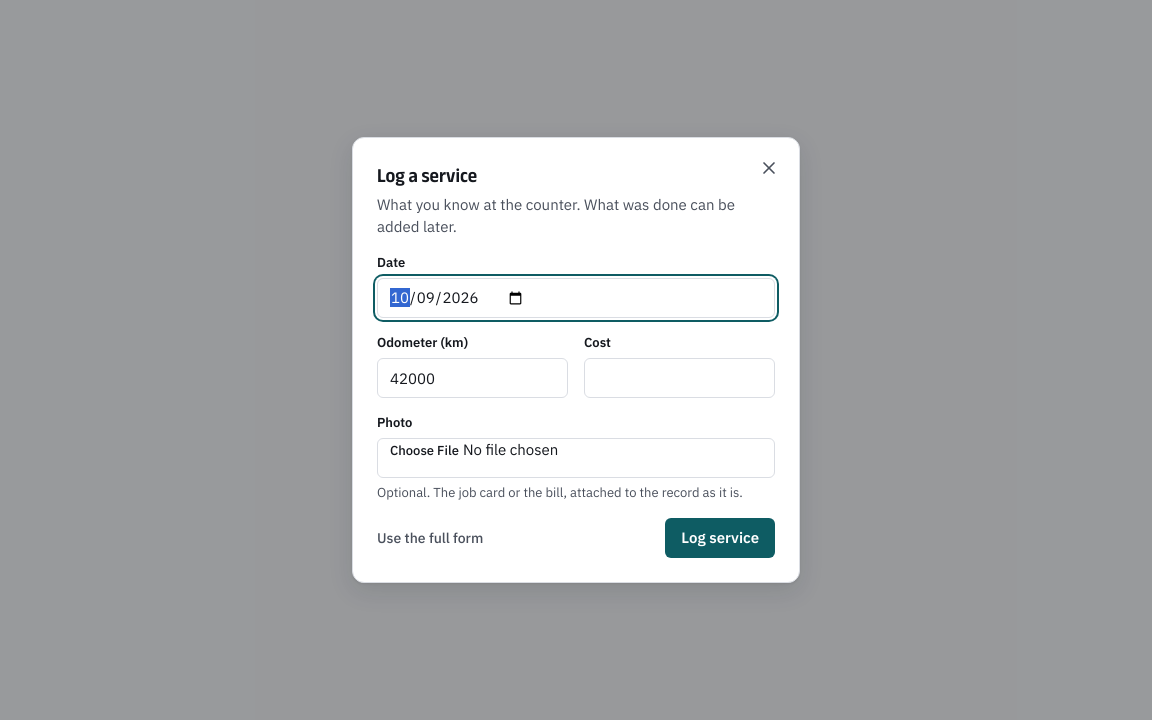
QuickLogDialog › will not save without a cost, or with a negative one
The image size is (1152, 720).
Click the button "Log service" at (720, 538), box [665,518,775,558]
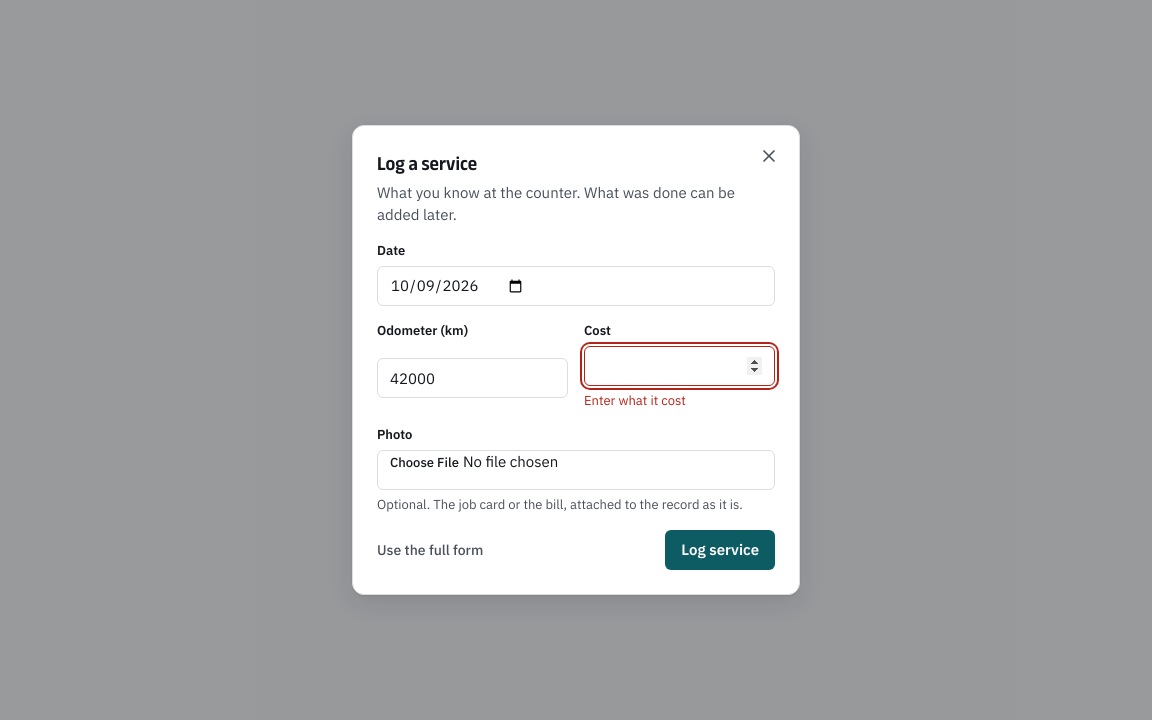
Now the text "Enter what it cost" is shown, box [584,392,686,409]
Type "-5" into the number field labelled "Cost" at (680, 366), box [584,346,775,386]
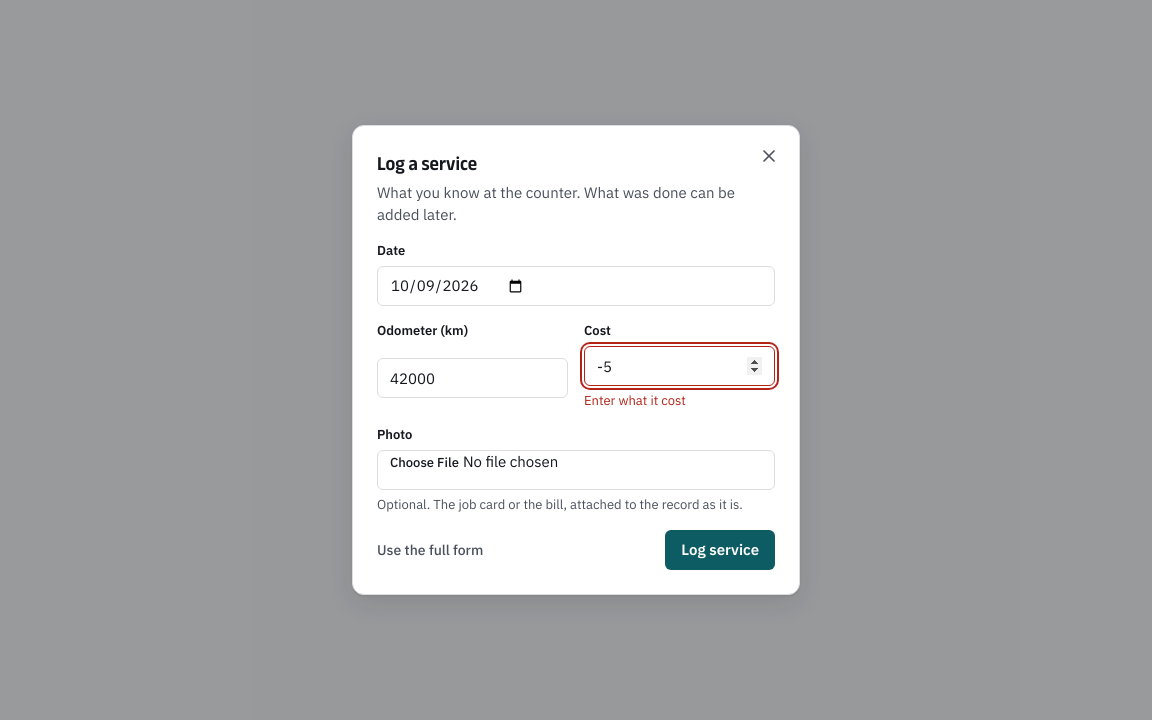
Click the button "Log service" at (720, 550), box [665,530,775,570]
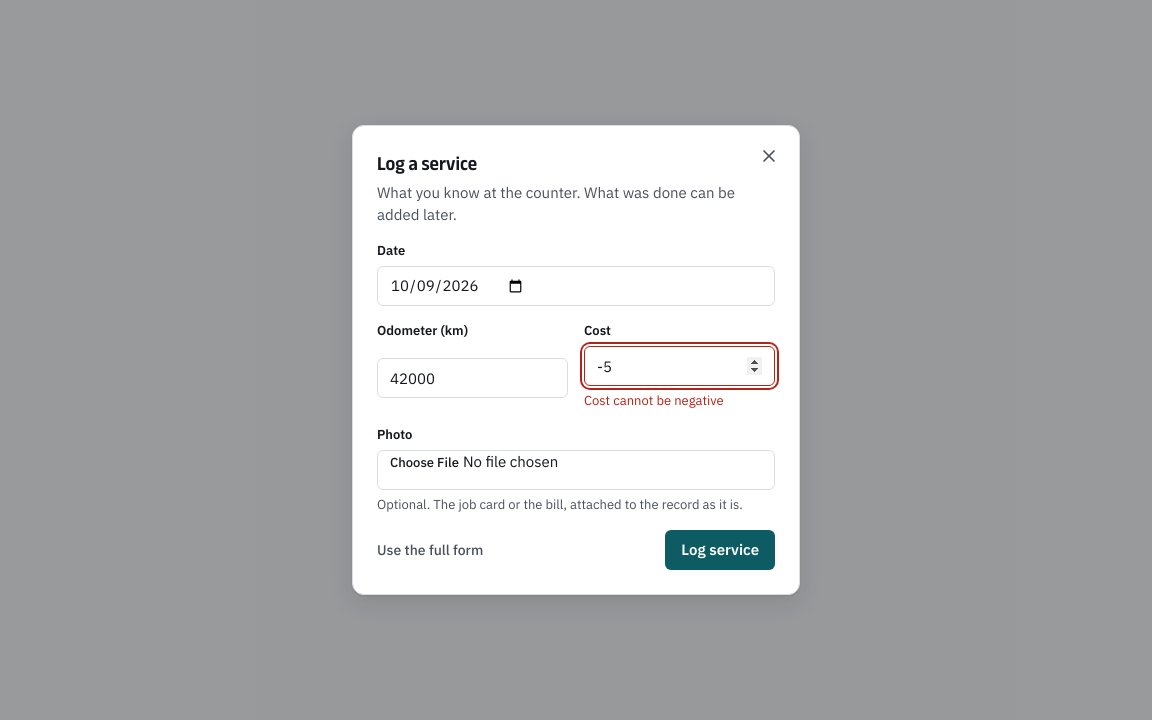
Now the text "Cost cannot be negative" is shown, box [584,392,724,409]
